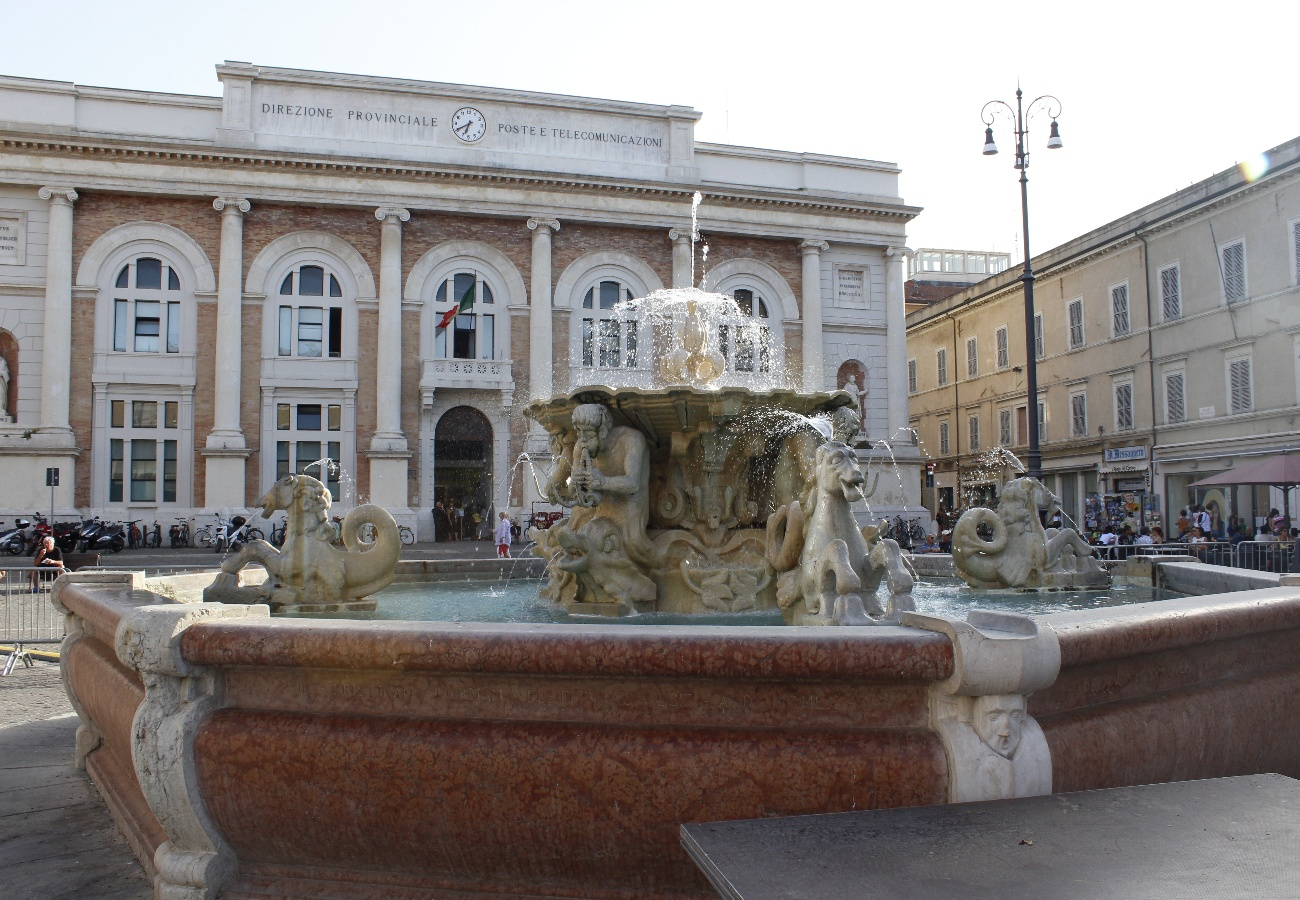Fontana Piazza del Popolo: (518, 387, 871, 618)
Palazzo delle Poste: (1, 65, 921, 565)
